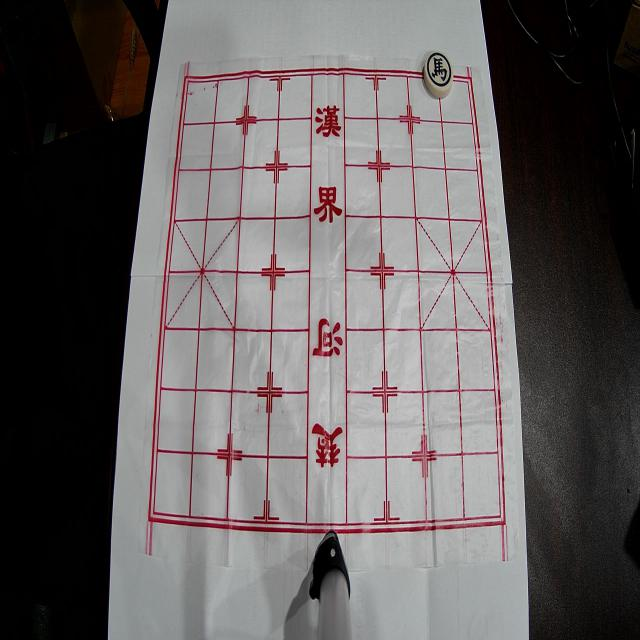black-horse: (424, 50, 454, 98)
